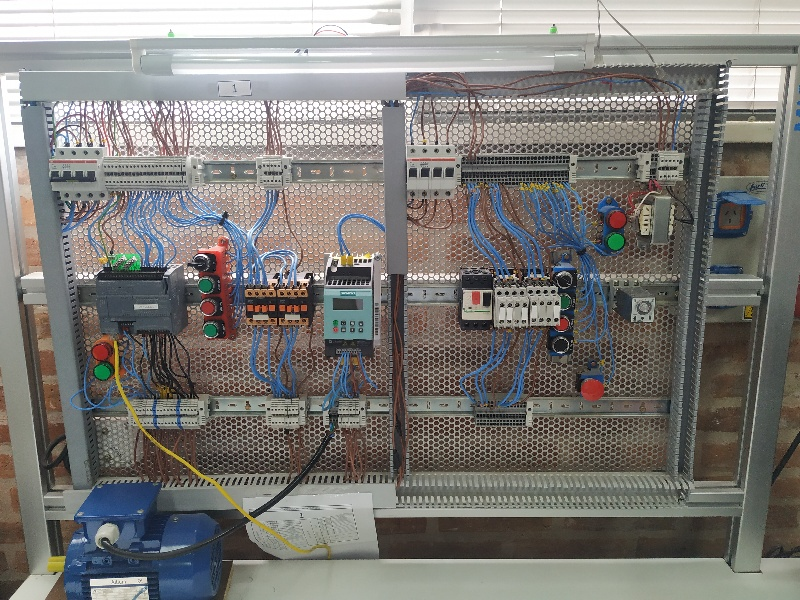Tablero 1: (31, 86, 706, 494)
